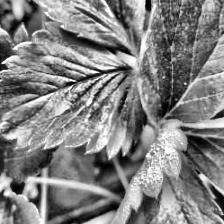Powdery Mildew Leaf: (105, 120, 224, 224), (178, 94, 224, 224)
